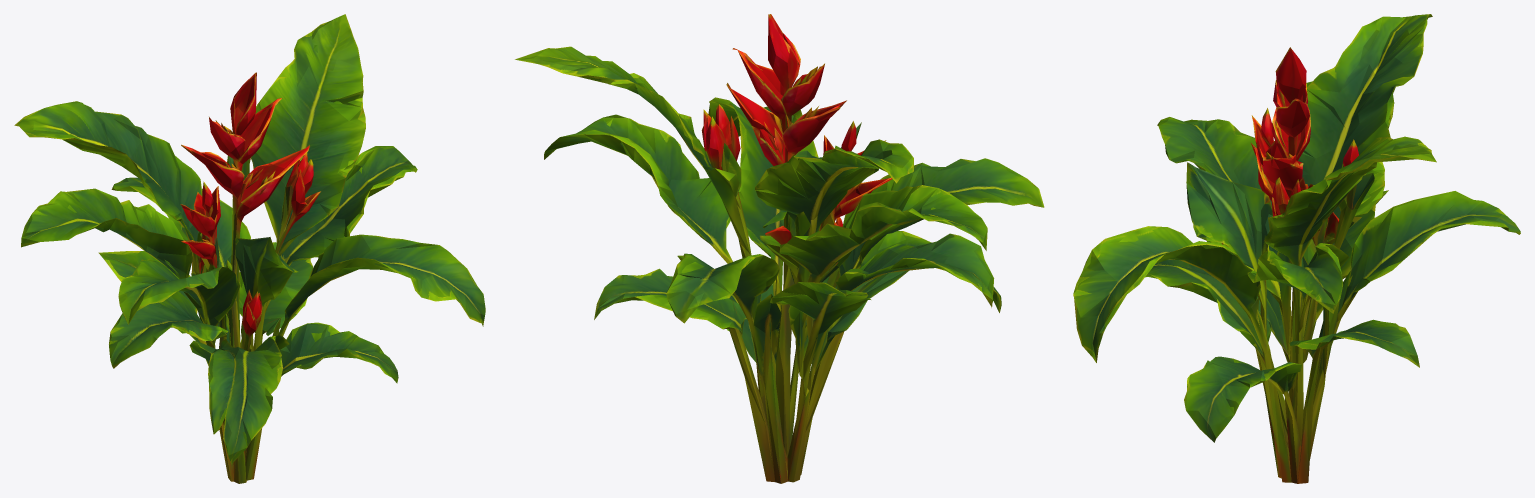
File: healing_plant.glb
3 renders of one model, left to right at view 1: azimuth 30°, elevation 25°; view 2: azimuth 150°, elevation 25°; view 3: azimuth 270°, elevation 25°, orthographic. The views are drawn at different scales.
Visible parts, largest first — view 1: output_unwrapped; view 2: output_unwrapped; view 3: output_unwrapped.
Boxes of the visible parts, x1,y1,x2,y2 form: output_unwrapped: (14,14,485,483); output_unwrapped: (515,14,1044,483); output_unwrapped: (1073,14,1520,483).
Bounding box in the file's own units: 1.9 × 1.87 × 1.73.
1 material, 1 textured.
